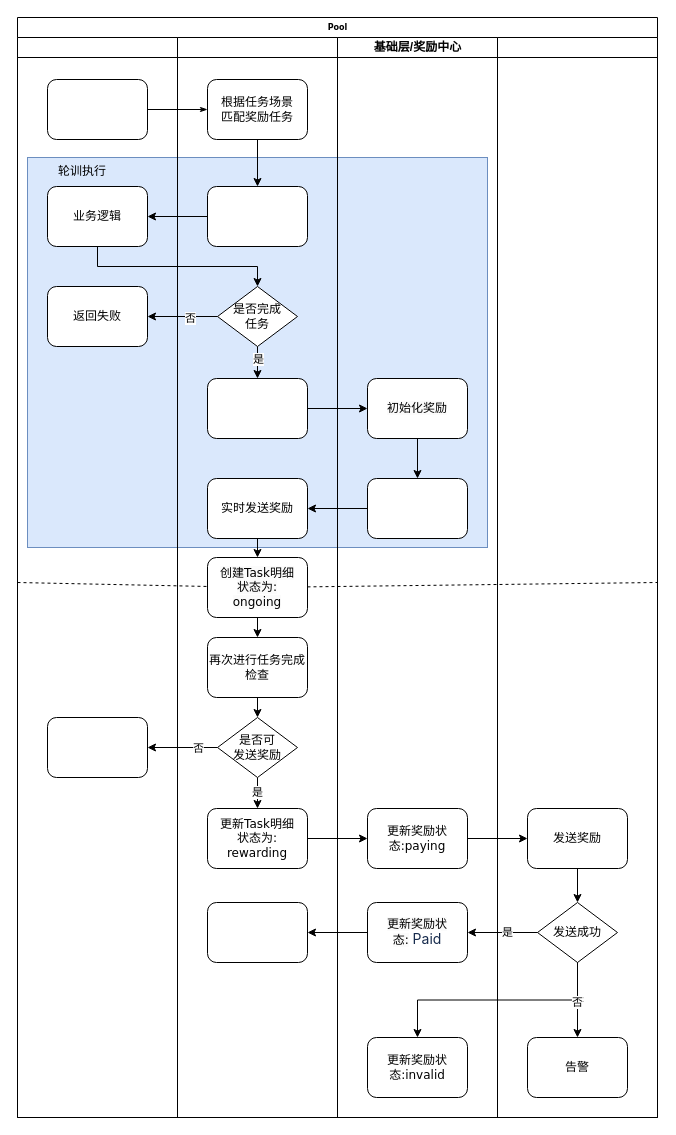
The diagram is 676 pixels wide and 1135 high, and some of its shapes have lost their labels. The shapes that lost their labels are listed below. From the top down, each one's box as (x1, y1, x2, y2) in pixels, then its label:
(46, 78, 148, 140): 完成任务
(206, 186, 308, 246): 任务完成条件 处理器
(206, 378, 308, 438): 发送奖励 处理器
(366, 478, 468, 538): 库存扣减
(16, 36, 178, 1118): 应用层
(176, 36, 338, 1118): 引擎层/任务引擎
(496, 36, 658, 1118): 奖励下游(SPP)
(46, 716, 148, 778): 发送失败,告警
(206, 902, 308, 962): 更新Task明细 状态为 : success
